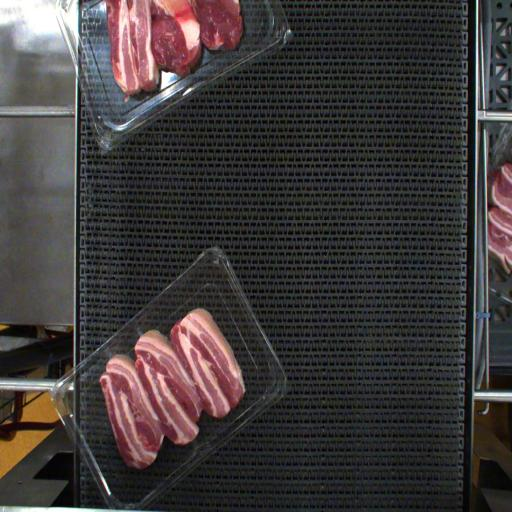packaging-error: (133, 320, 147, 338), (103, 346, 116, 360)
